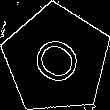O_SE: (24, 27, 88, 91)
